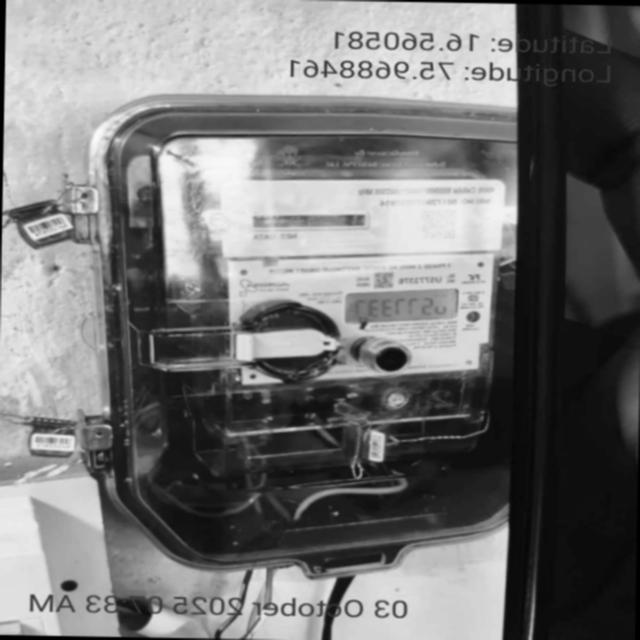meter: (234, 172, 507, 385)
